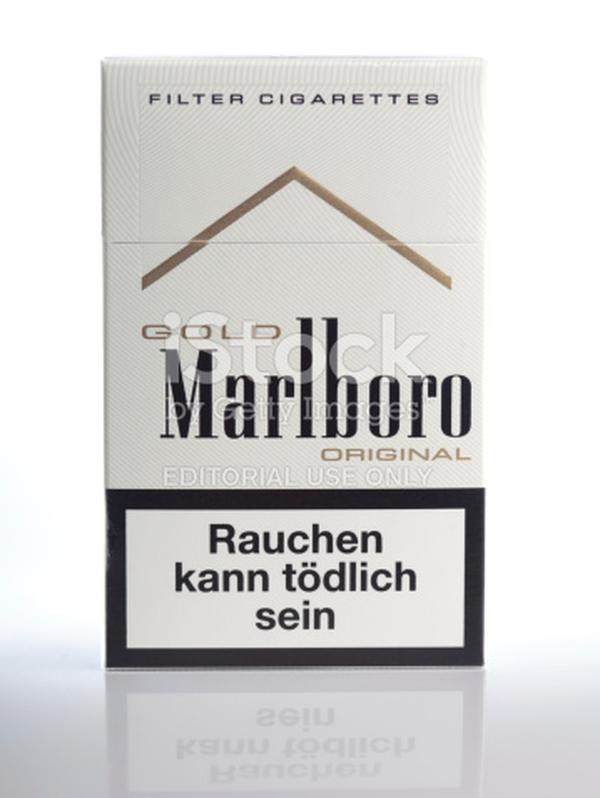marlboro_gold: (103, 59, 481, 666)
